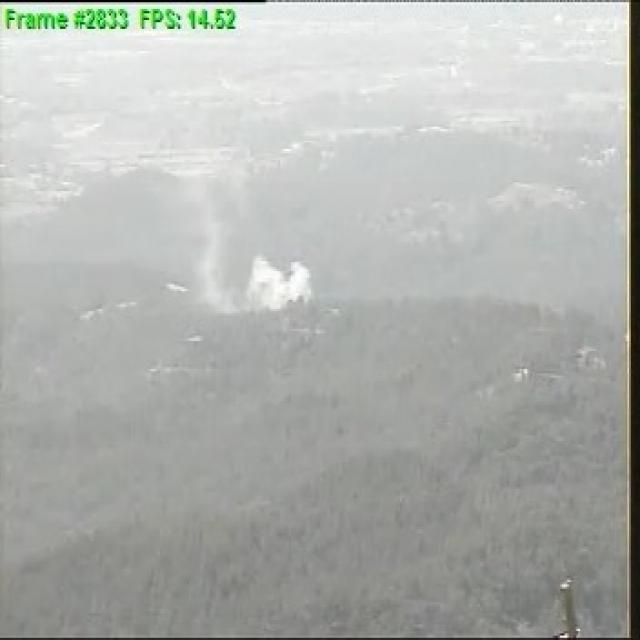smoke: (200, 248, 317, 307)
